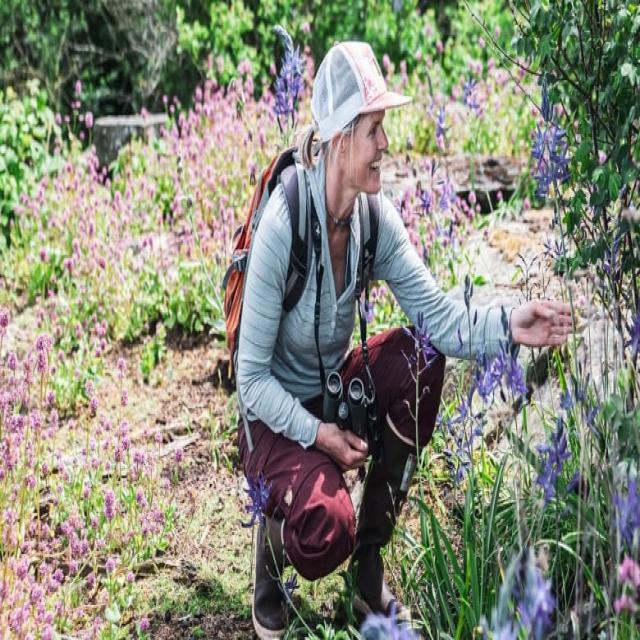adult: (224, 36, 576, 640)
